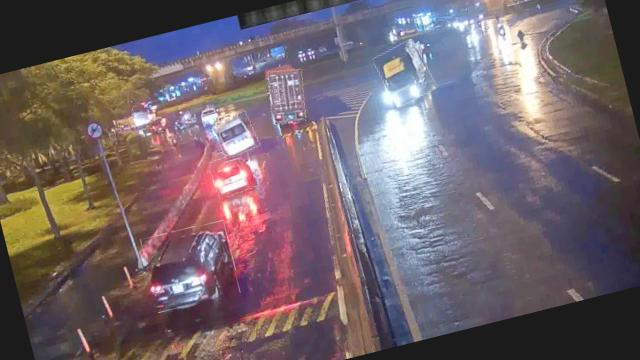Bike: (515, 26, 532, 49)
Bus: (212, 111, 260, 159)
Car: (140, 219, 242, 314), (208, 150, 258, 200)
Truck: (372, 38, 437, 108), (262, 66, 312, 127)
